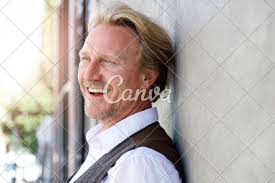white_male: (72, 27, 135, 124)
